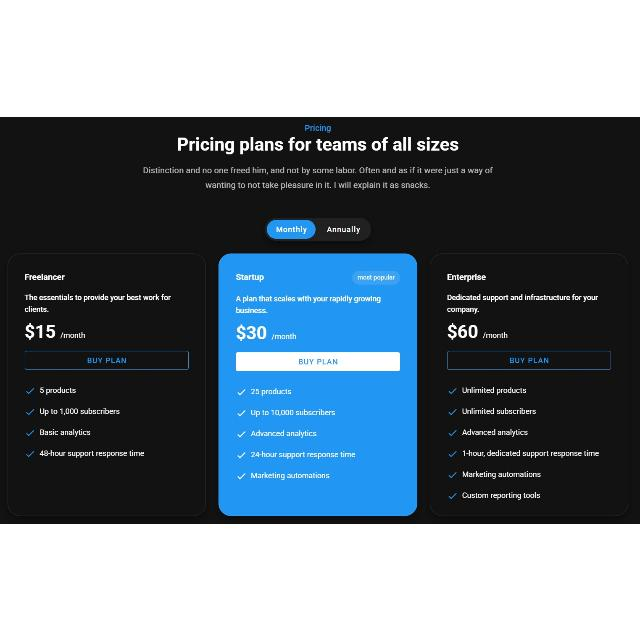QLabel: (174, 135, 458, 155), (140, 164, 494, 176), (204, 180, 432, 188), (23, 292, 175, 302), (232, 293, 384, 303), (461, 448, 602, 458), (446, 292, 598, 300), (250, 449, 356, 458), (37, 449, 146, 457), (248, 470, 332, 480), (460, 489, 544, 498), (461, 469, 542, 478), (248, 408, 334, 416), (38, 406, 118, 414), (460, 406, 534, 414), (236, 323, 268, 341), (458, 385, 528, 393), (248, 428, 318, 436), (460, 427, 528, 435), (25, 321, 55, 339), (447, 322, 478, 338), (38, 427, 90, 435), (24, 271, 64, 281), (249, 387, 293, 395), (296, 356, 340, 364), (356, 272, 396, 280), (446, 272, 484, 280), (39, 385, 77, 393), (326, 225, 362, 233), (304, 122, 332, 132), (274, 224, 308, 232), (446, 305, 480, 313), (86, 356, 128, 362), (509, 356, 551, 362), (235, 272, 265, 280), (60, 330, 86, 338), (482, 330, 508, 338), (234, 306, 268, 312), (24, 304, 48, 312), (270, 332, 298, 338)
VBtn: (235, 351, 401, 372), (24, 348, 190, 369), (446, 350, 612, 370)
VCard: (428, 251, 630, 517), (8, 251, 208, 517), (218, 252, 418, 516)
VChip: (352, 270, 400, 284)
VIcon: (26, 386, 34, 394), (237, 450, 245, 458), (238, 409, 246, 416), (26, 408, 34, 414), (26, 429, 34, 435), (448, 387, 456, 393), (26, 450, 34, 456), (448, 408, 456, 414), (237, 388, 245, 394), (448, 429, 456, 435), (448, 450, 456, 456), (448, 471, 456, 477), (237, 430, 245, 436), (448, 492, 456, 498), (237, 472, 245, 478)
